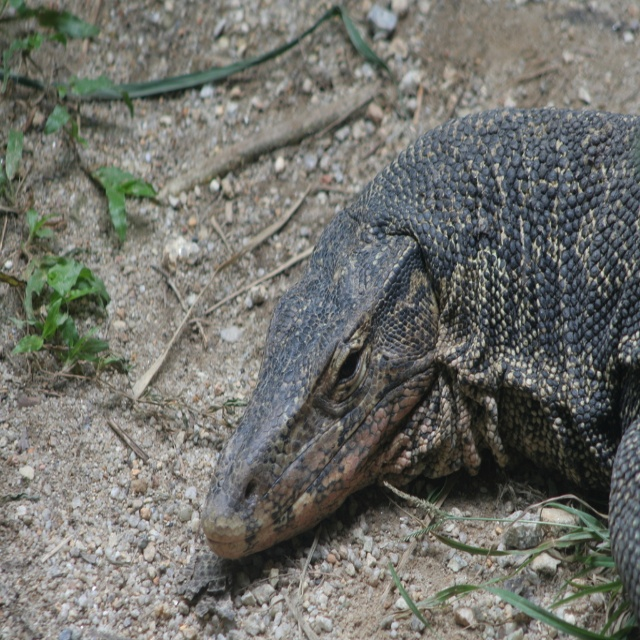Lizard: (181, 116, 640, 622)
